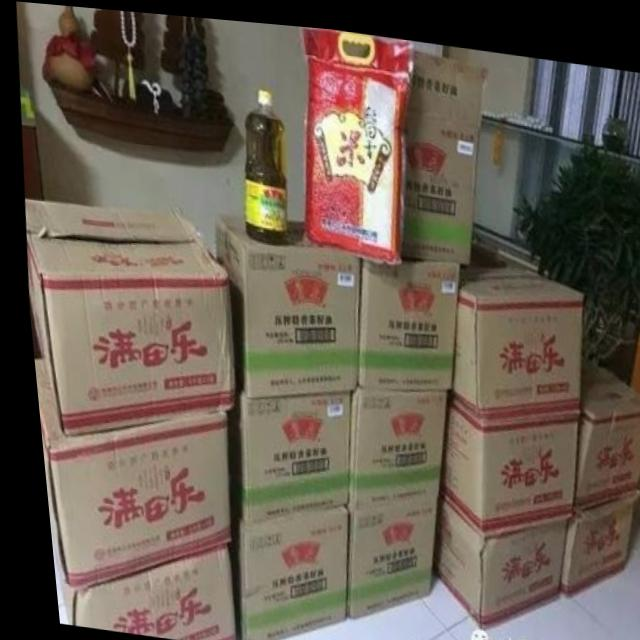box: (21, 197, 226, 438), (27, 359, 221, 592), (210, 213, 358, 393), (443, 256, 577, 409), (430, 390, 571, 526), (397, 43, 486, 255), (423, 486, 560, 621), (219, 378, 345, 520), (42, 542, 224, 640), (215, 499, 339, 640), (351, 255, 453, 383), (341, 385, 441, 504), (337, 490, 428, 615), (564, 356, 640, 500), (549, 483, 630, 588)
